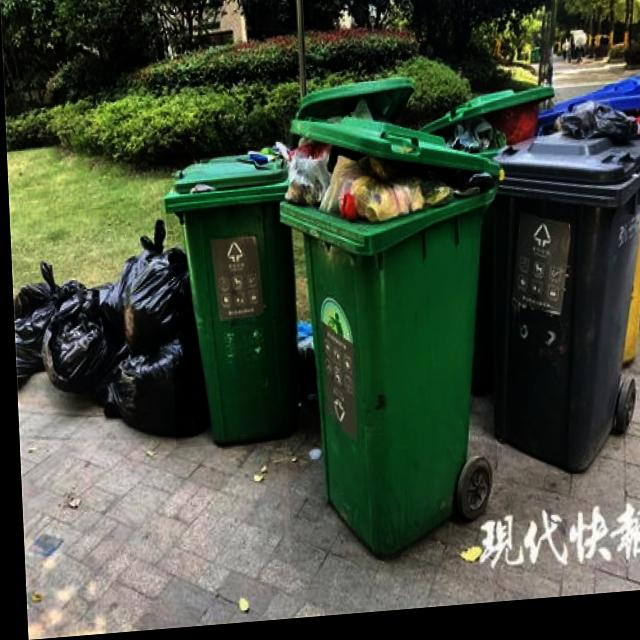garbage: (8, 216, 205, 450)
overflow: (271, 109, 510, 567), (480, 106, 640, 487), (162, 149, 298, 451)
